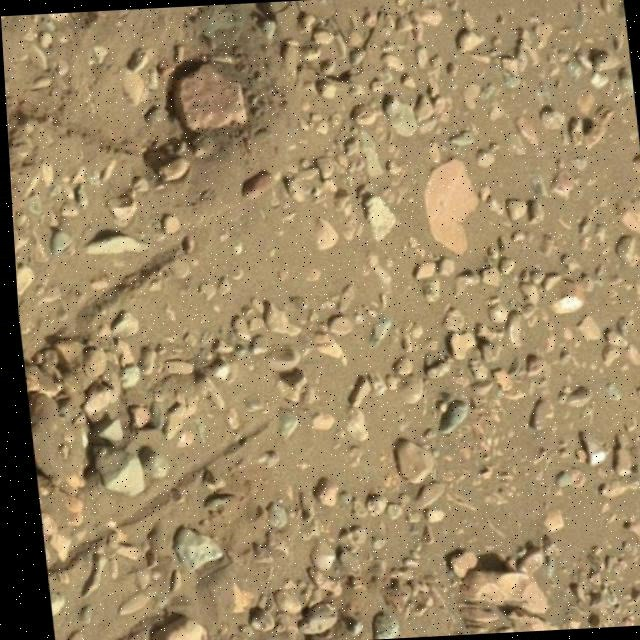rock: (172, 61, 248, 128), (455, 568, 549, 616), (203, 1, 276, 52), (95, 450, 144, 494), (144, 616, 206, 639), (466, 553, 513, 578), (149, 609, 186, 640), (298, 605, 330, 640), (318, 546, 343, 568), (445, 548, 464, 576), (336, 615, 363, 634), (82, 567, 96, 594)
